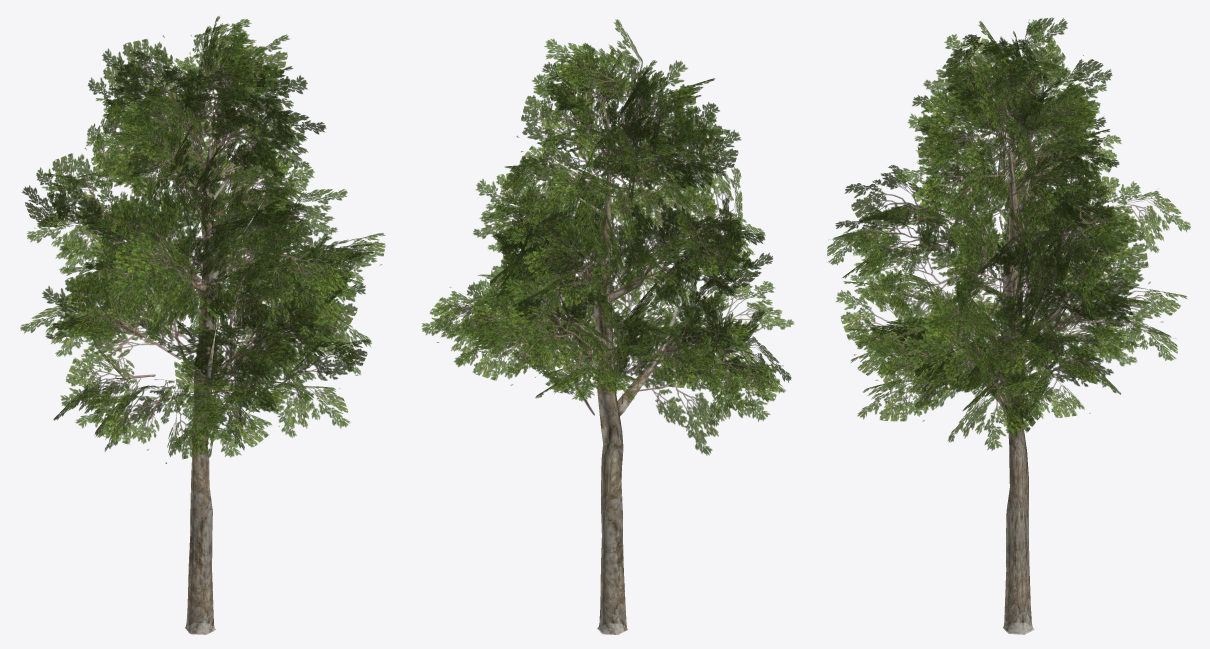
The model's file is lowpoly-tree-2.glb.
3 renders of one model, left to right at view 1: azimuth 30°, elevation 25°; view 2: azimuth 150°, elevation 25°; view 3: azimuth 270°, elevation 25°, orthographic. The views are drawn at different scales.
Parts seen in each view (by area): view 1: Tree 2_Tree 1_0; view 2: Tree 2_Tree 1_0; view 3: Tree 2_Tree 1_0.
Part boxes in pixels (left/top/right/bottom): Tree 2_Tree 1_0: left=20, top=16, right=385, bottom=634; Tree 2_Tree 1_0: left=422, top=19, right=794, bottom=634; Tree 2_Tree 1_0: left=827, top=17, right=1190, bottom=634.
Bounding box in the file's own units: 4.99 × 8.48 × 4.68.
Materials: 1 (1 with a texture image).
